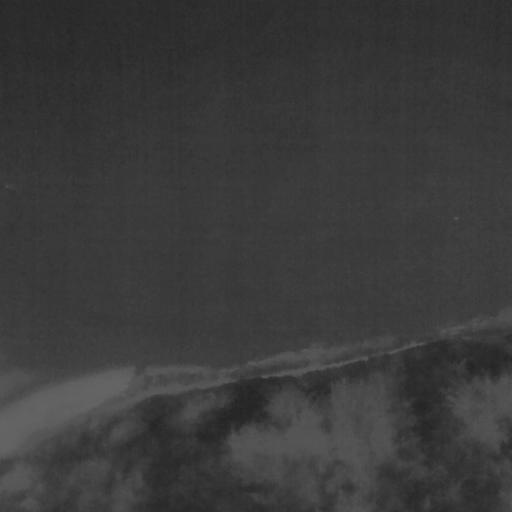uav: (5, 182, 15, 193)
